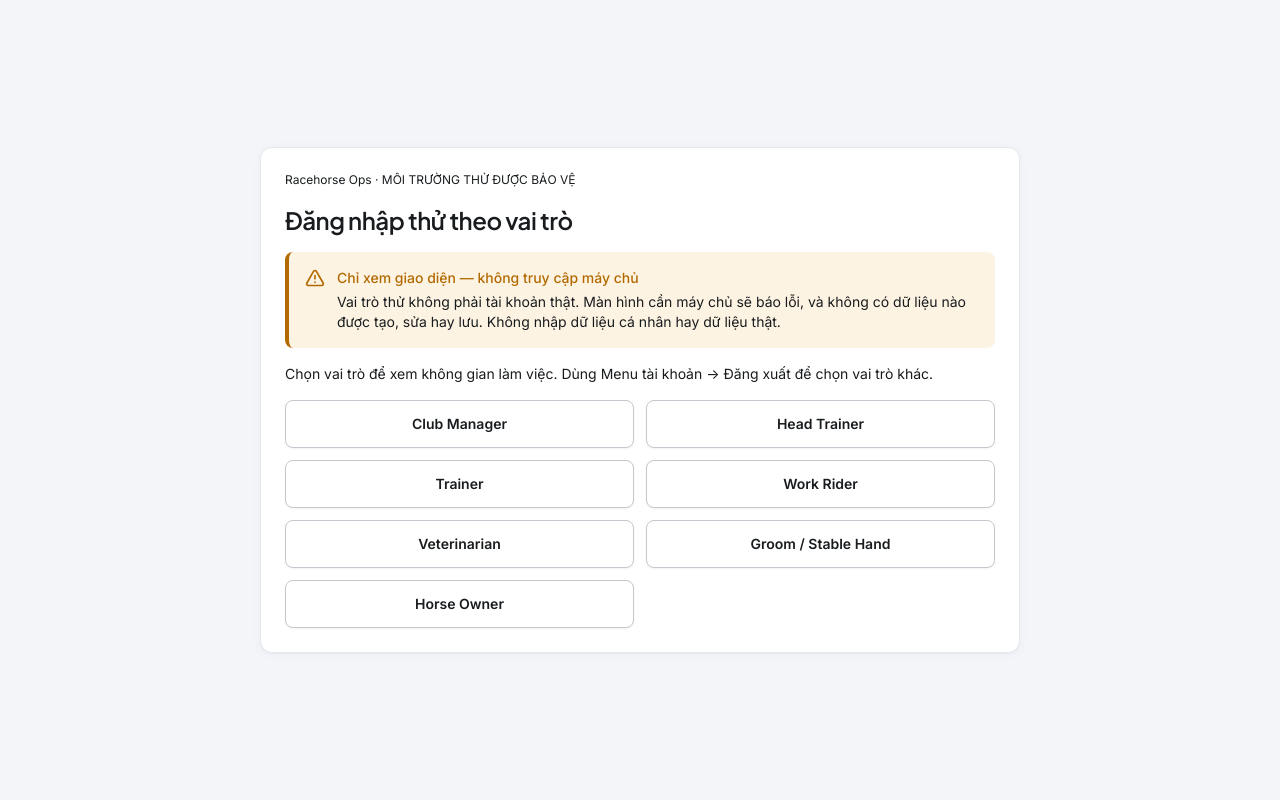
Scenario: opens the CLUB_MANAGER workspace without credentials, network or sample data
This screenshot has width=1280, height=800.
Expected: the heading "Đăng nhập thử theo vai trò" is shown, [285,205,573,235]
Step 1. Click the button "Club Manager" → (460, 424), box [285,400,634,448]
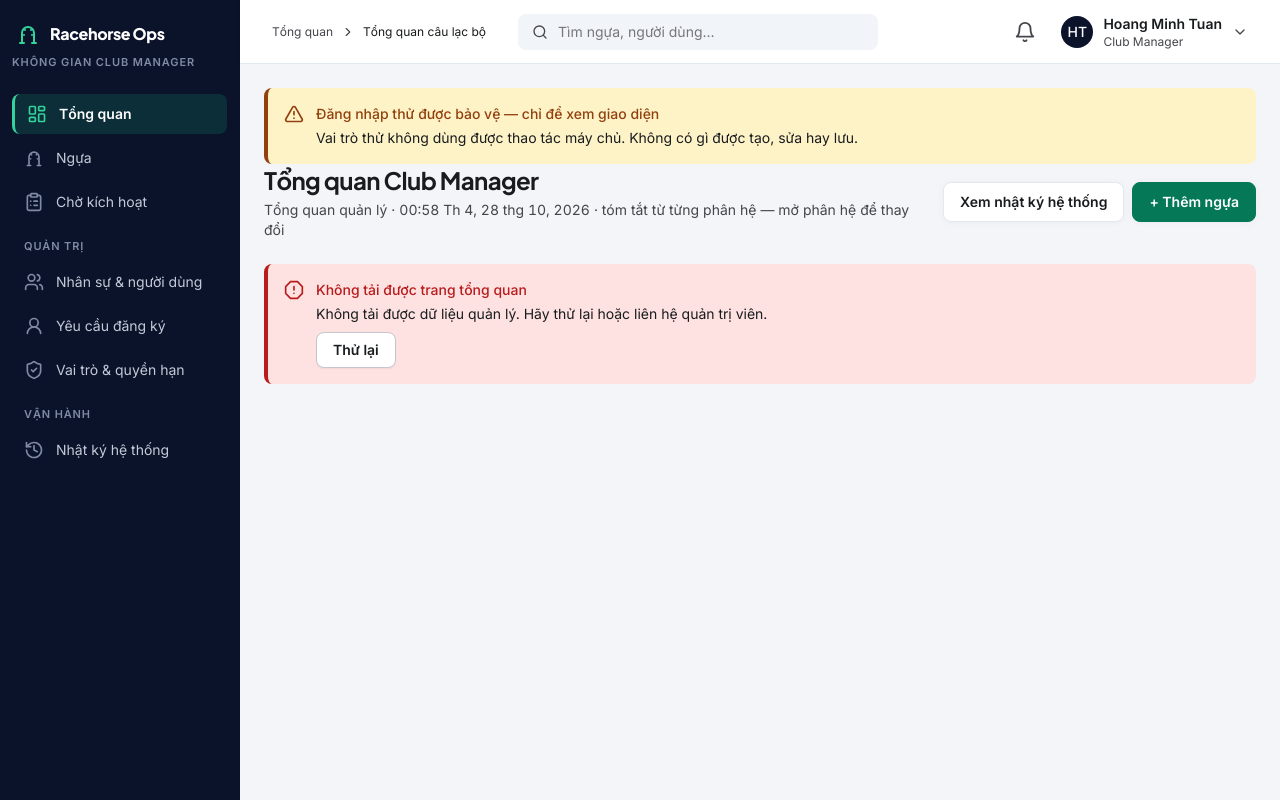
Now the heading "Tổng quan Club Manager" is shown, box [264,165,538,195]
Now the text "Đăng nhập thử được bảo vệ — chỉ để xem giao diện" is shown, box [316,105,659,122]
